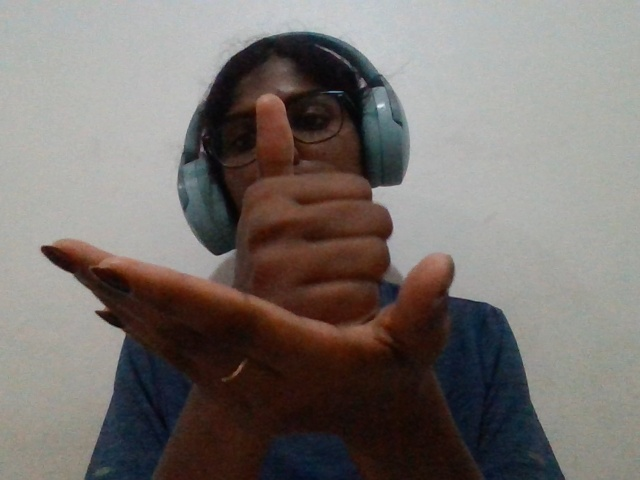Help: (19, 85, 503, 470)
